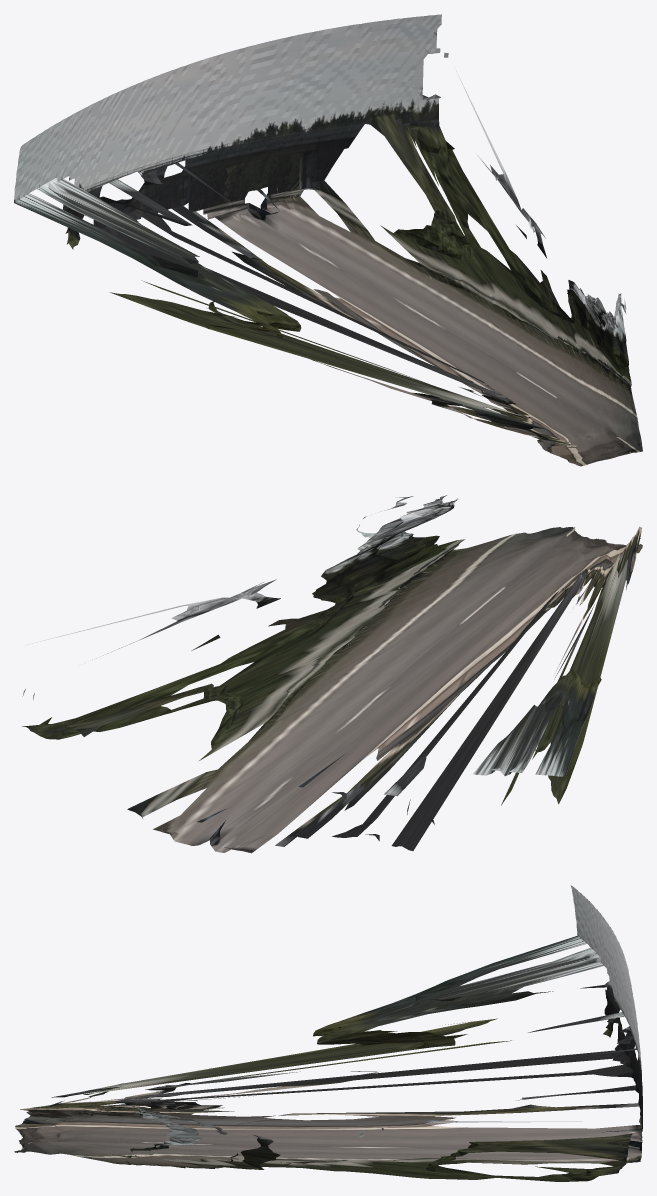
3 renders of one model, top to bottom at view 1: azimuth 30°, elevation 25°; view 2: azimuth 150°, elevation 25°; view 3: azimuth 270°, elevation 25°, orthographic. The views are drawn at different scales.
Parts seen in each view (by area): view 1: defaultobject; view 2: defaultobject; view 3: defaultobject.
Part boxes in pixels (<box>): defaultobject: <box>14,14,642,466</box>; defaultobject: <box>22,495,642,853</box>; defaultobject: <box>14,885,642,1181</box>.
Bounding box in the file's own units: 33.39 × 12.09 × 44.77.
Materials: 1 (1 with a texture image).
